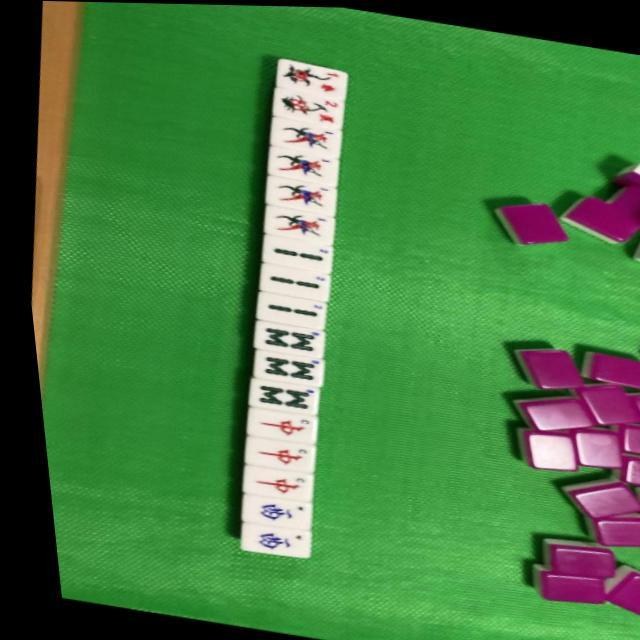bs1: (276, 62, 344, 95)
bs2: (273, 87, 343, 125)
hdr: (232, 465, 304, 501), (234, 436, 304, 470), (238, 408, 308, 442)
hww: (233, 522, 299, 556), (234, 494, 302, 526)
sb1: (267, 148, 337, 182), (267, 177, 331, 210), (266, 207, 328, 241), (276, 120, 338, 154)
sb2: (264, 238, 328, 269), (259, 266, 324, 295), (254, 294, 318, 322)
sb8: (249, 320, 319, 356), (244, 379, 311, 414), (252, 351, 314, 384)
